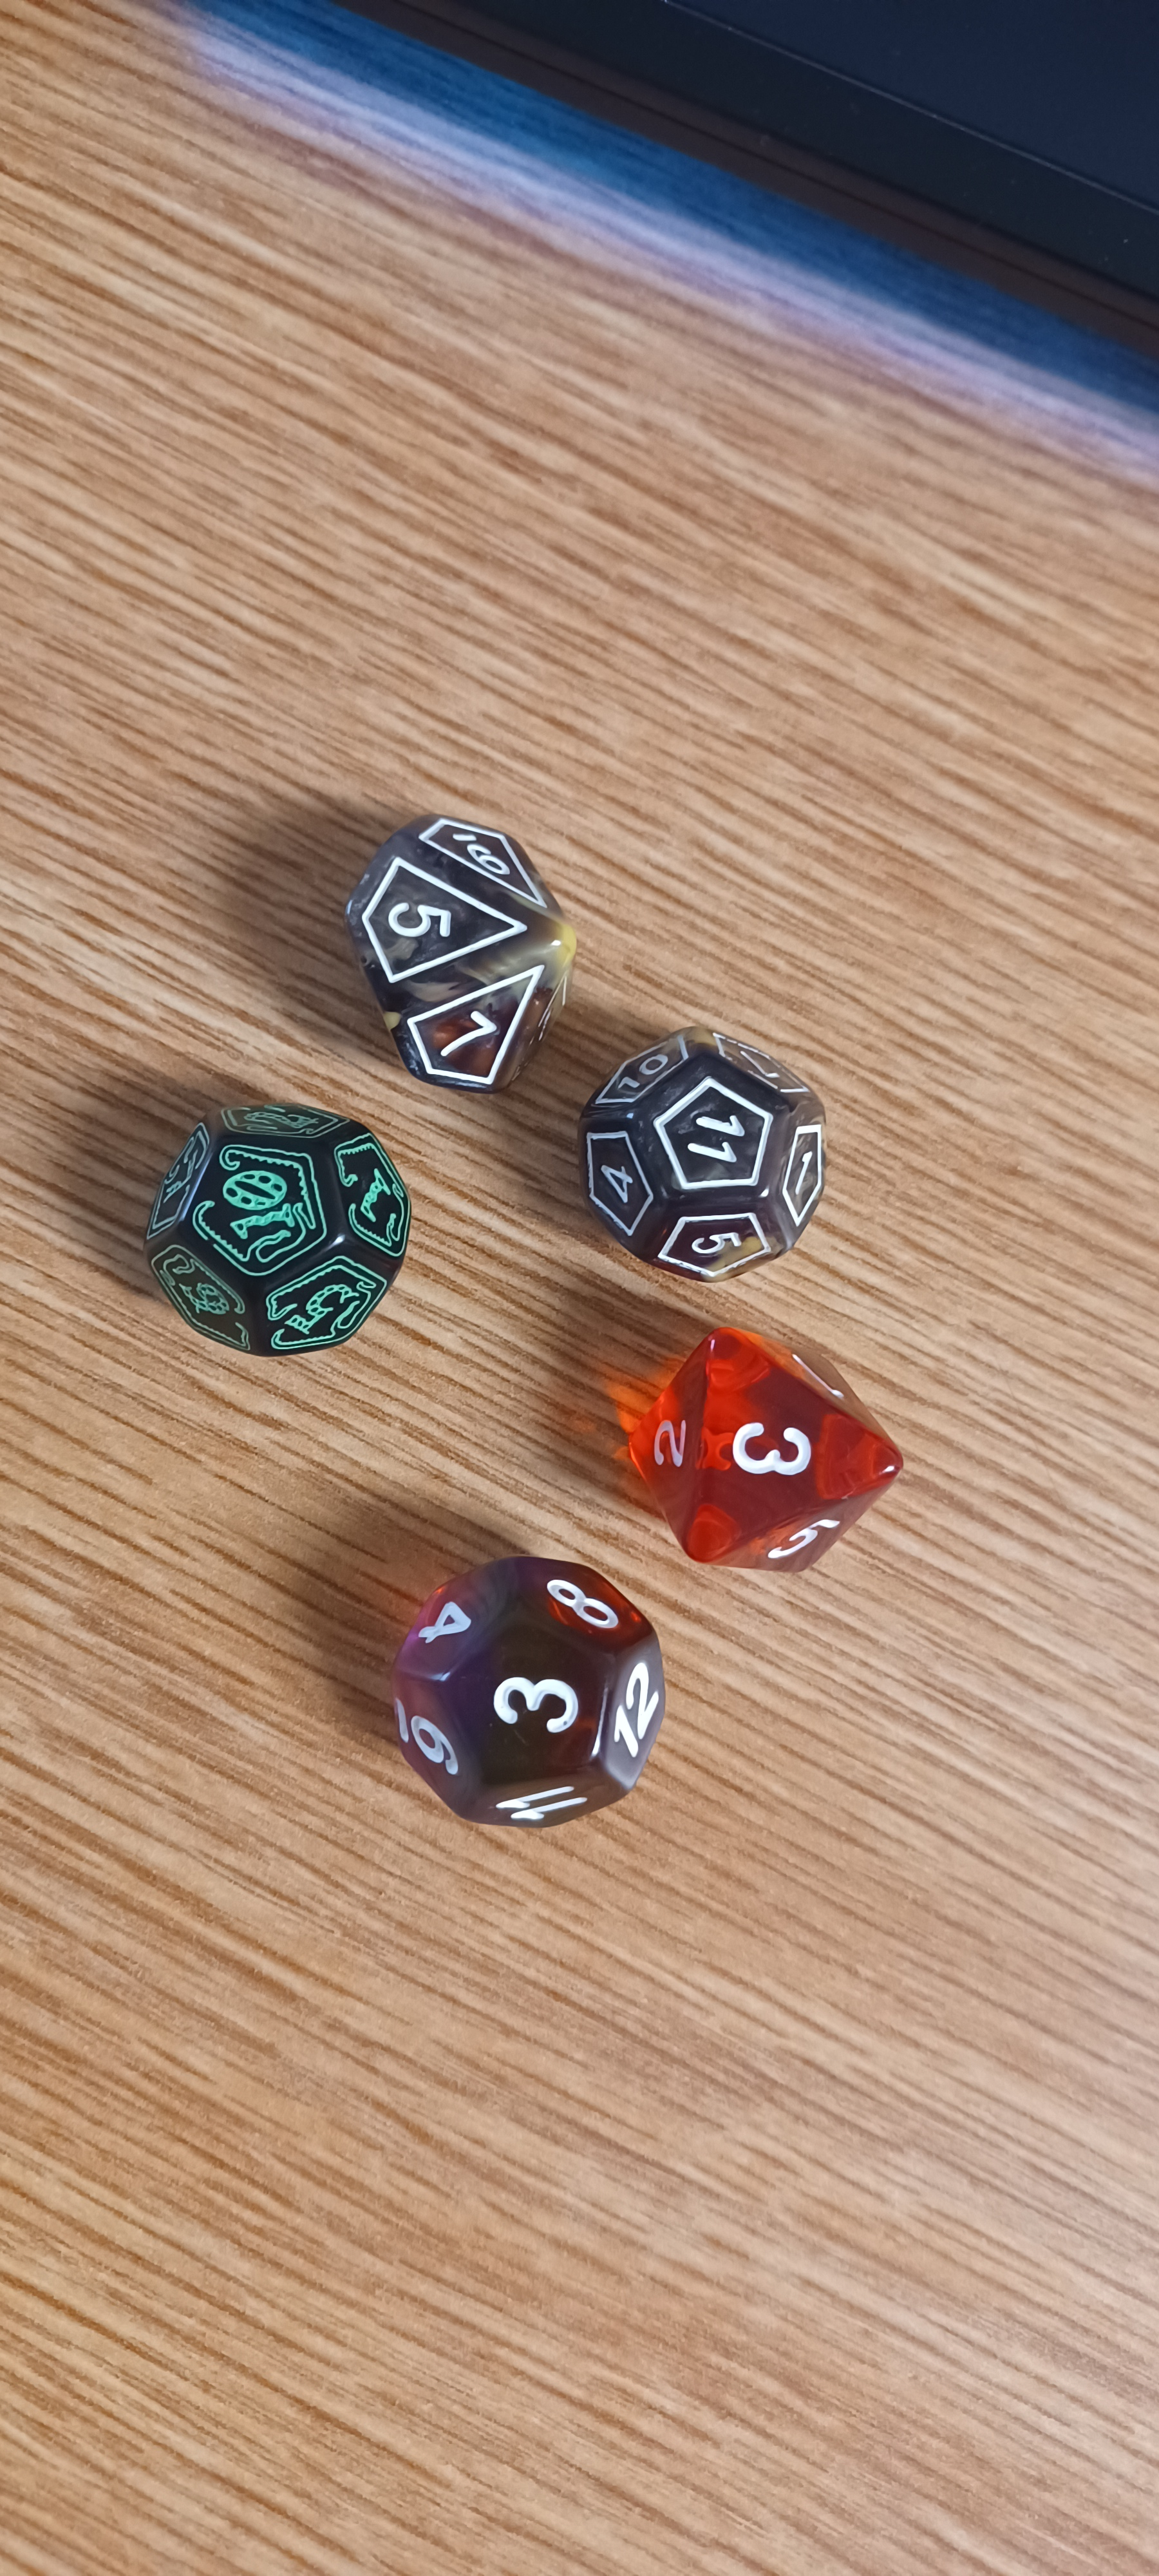eleven: (561, 1005, 864, 1308)
five: (307, 787, 598, 1101)
ten: (113, 1066, 447, 1368)
three: (360, 1526, 688, 1861), (586, 1290, 951, 1579)
